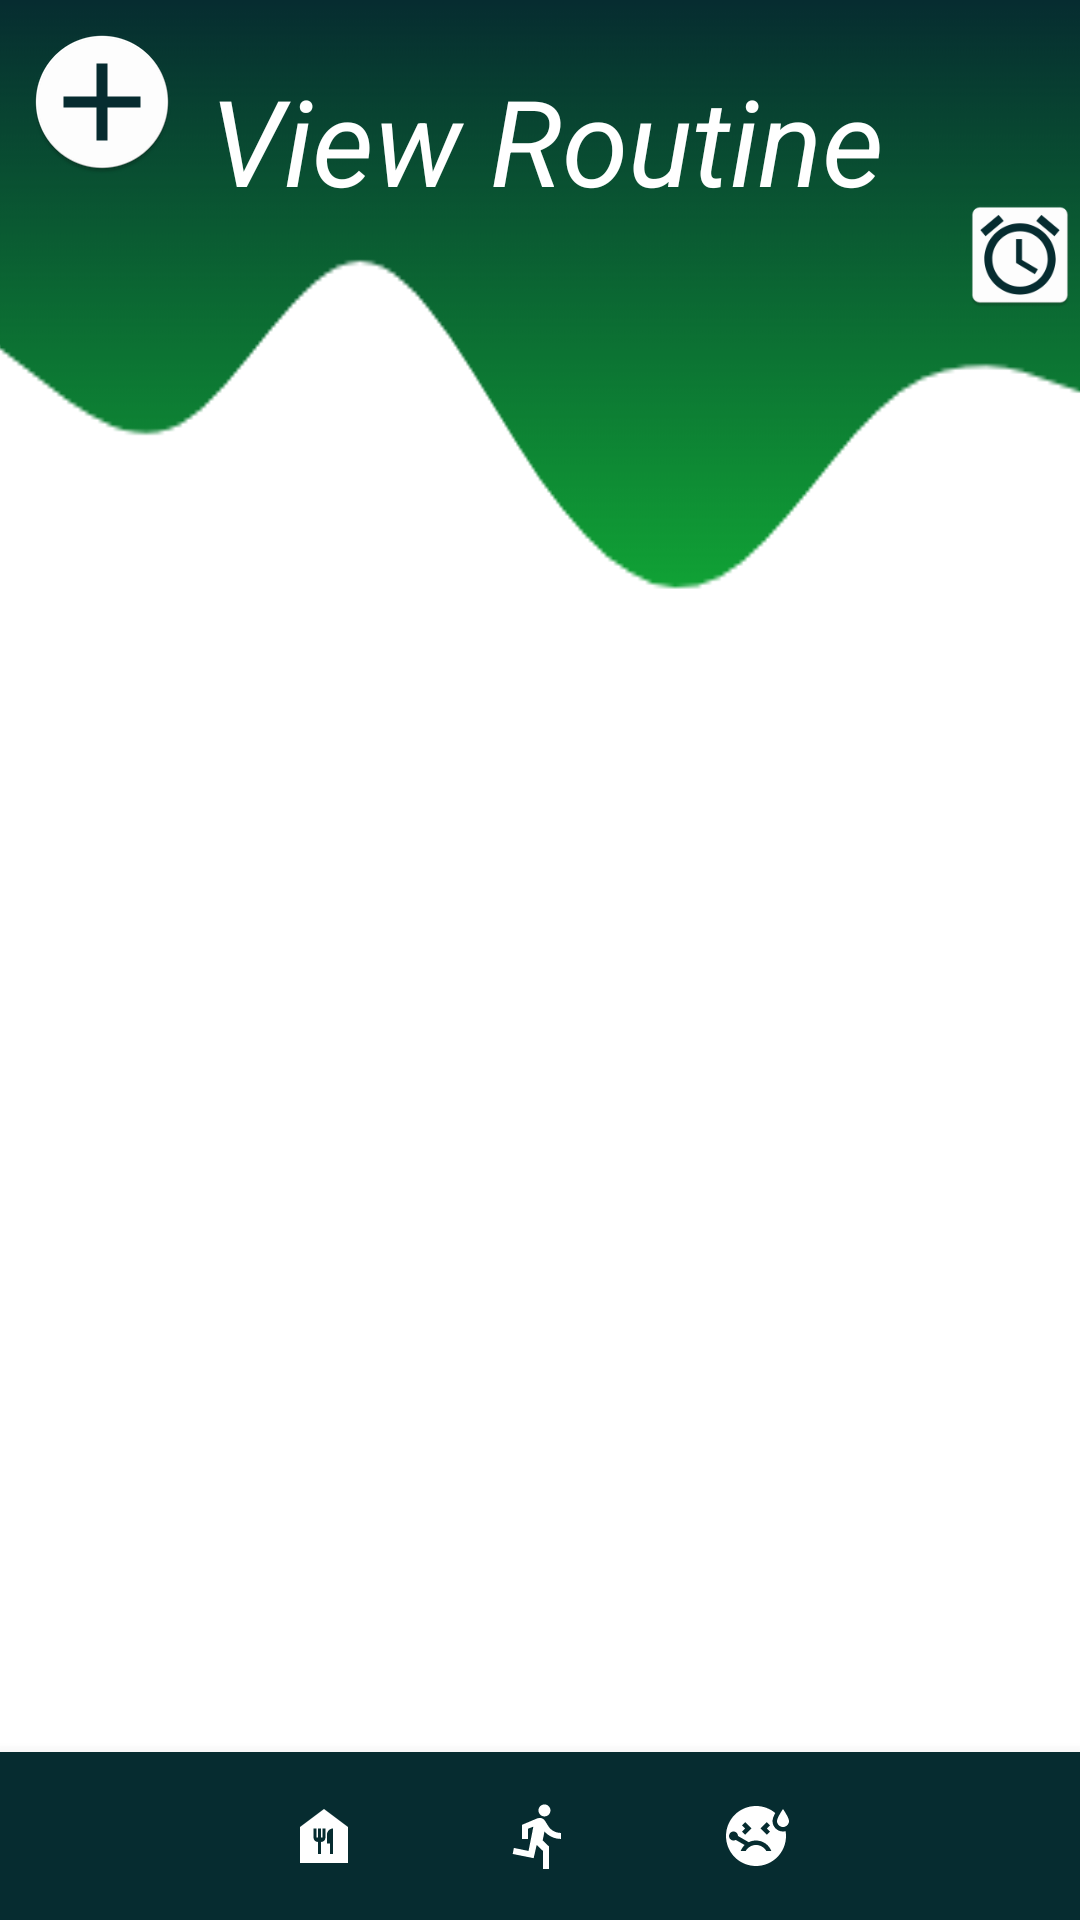

Named icons in this screenshot (1080*1920) and their bounding boxes, (x1, y1, x2, y2):
add: (35, 35, 169, 168)
